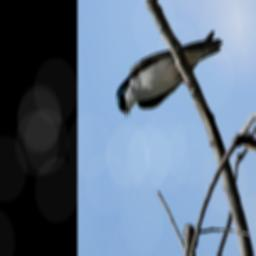Swallow: (110, 29, 230, 121)
